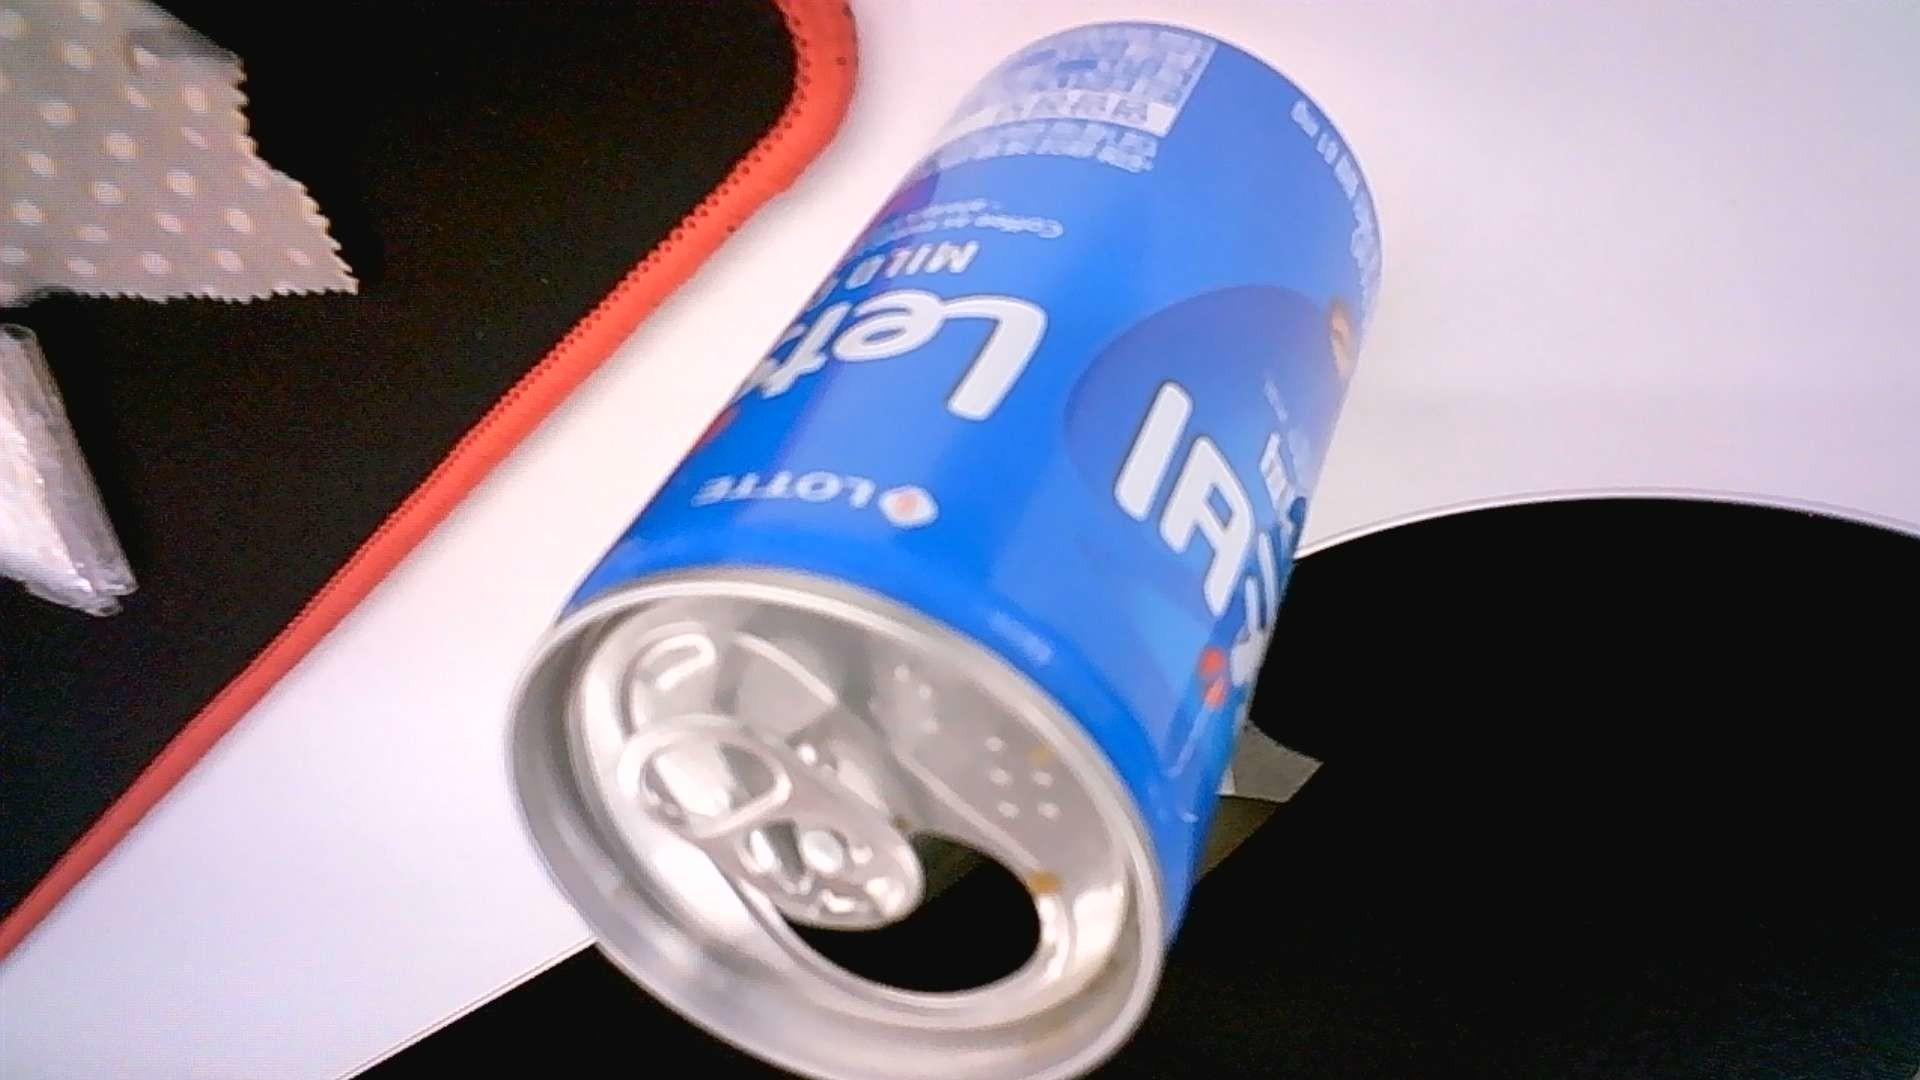letsbe: (498, 17, 1387, 1080)
